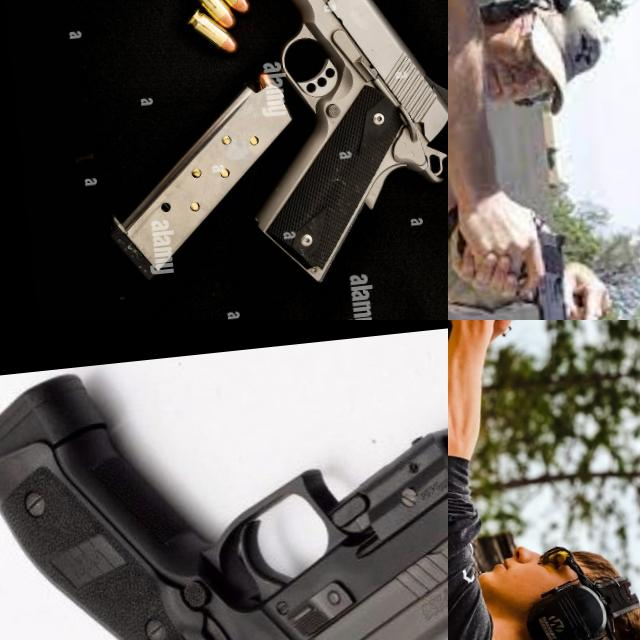handgun: (0, 320, 448, 640), (203, 0, 448, 294), (505, 211, 582, 320), (474, 320, 532, 392)
